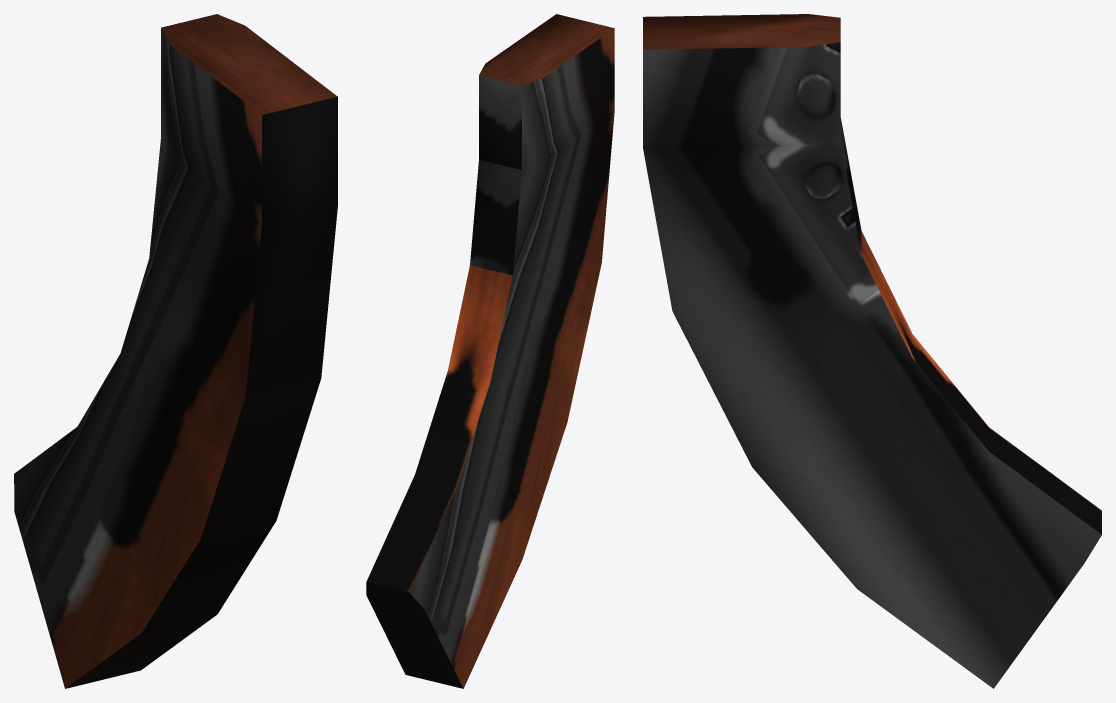
Rendered from AK_Mag.fbx.
The picture shows the model from 3 angles, left to right: view 1: azimuth 30°, elevation 25°; view 2: azimuth 150°, elevation 25°; view 3: azimuth 270°, elevation 25°; orthographic projection. The views are drawn at different scales.
Visible parts, largest first — view 1: AK47_LP.001; view 2: AK47_LP.001; view 3: AK47_LP.001.
Part boxes in pixels (box(x1,y1,x2,y2)): AK47_LP.001: box(14, 14, 337, 688); AK47_LP.001: box(366, 14, 614, 688); AK47_LP.001: box(643, 14, 1101, 688).
Bounding box in the file's own units: 0.0155 × 0.0911 × 0.1408.
